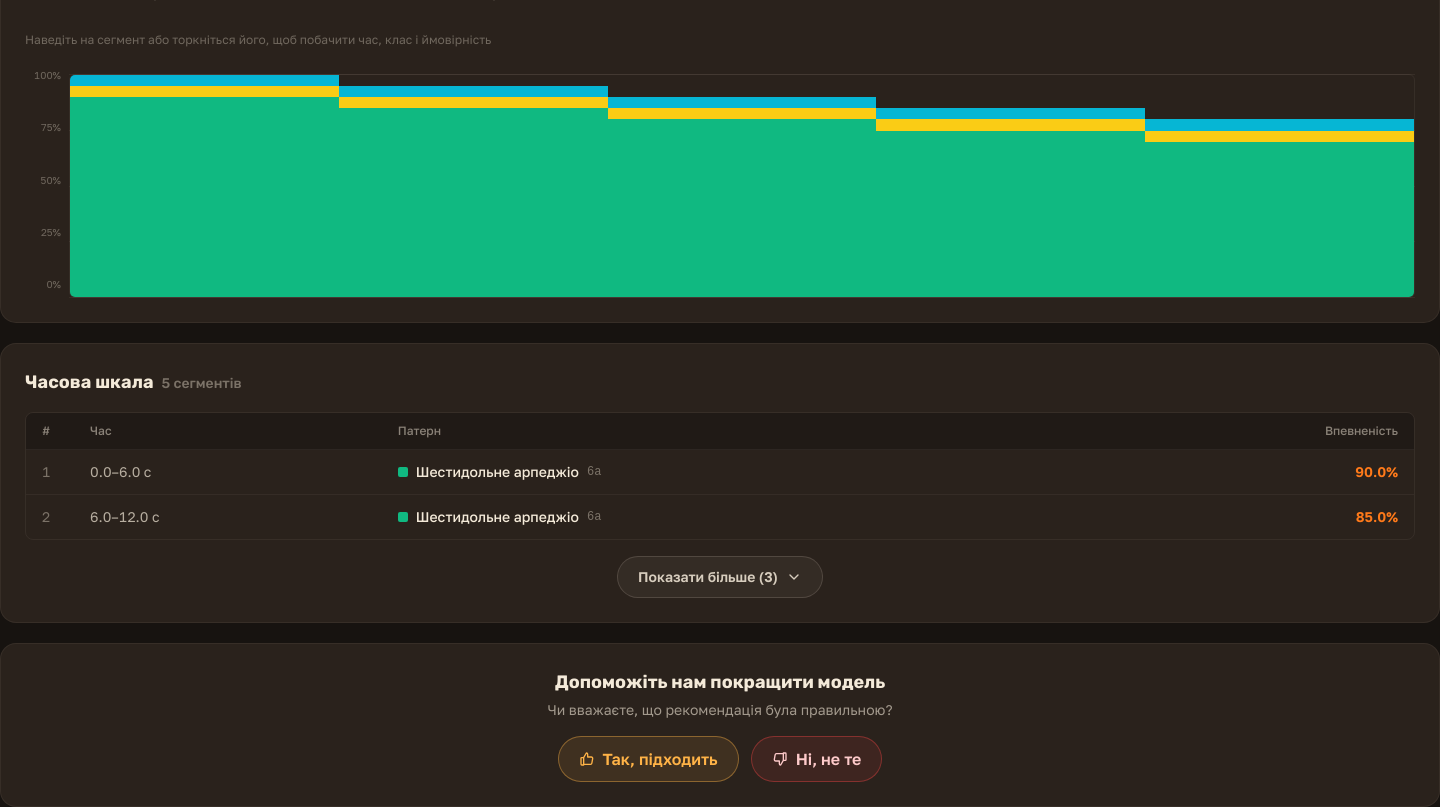
TimelineTable › expands and collapses when toggle button is clicked
(page scrolled)
Step 1. Click the button "Показати більше (3)" → {"x": 720, "y": 577}, box 617,556 -> 823,598
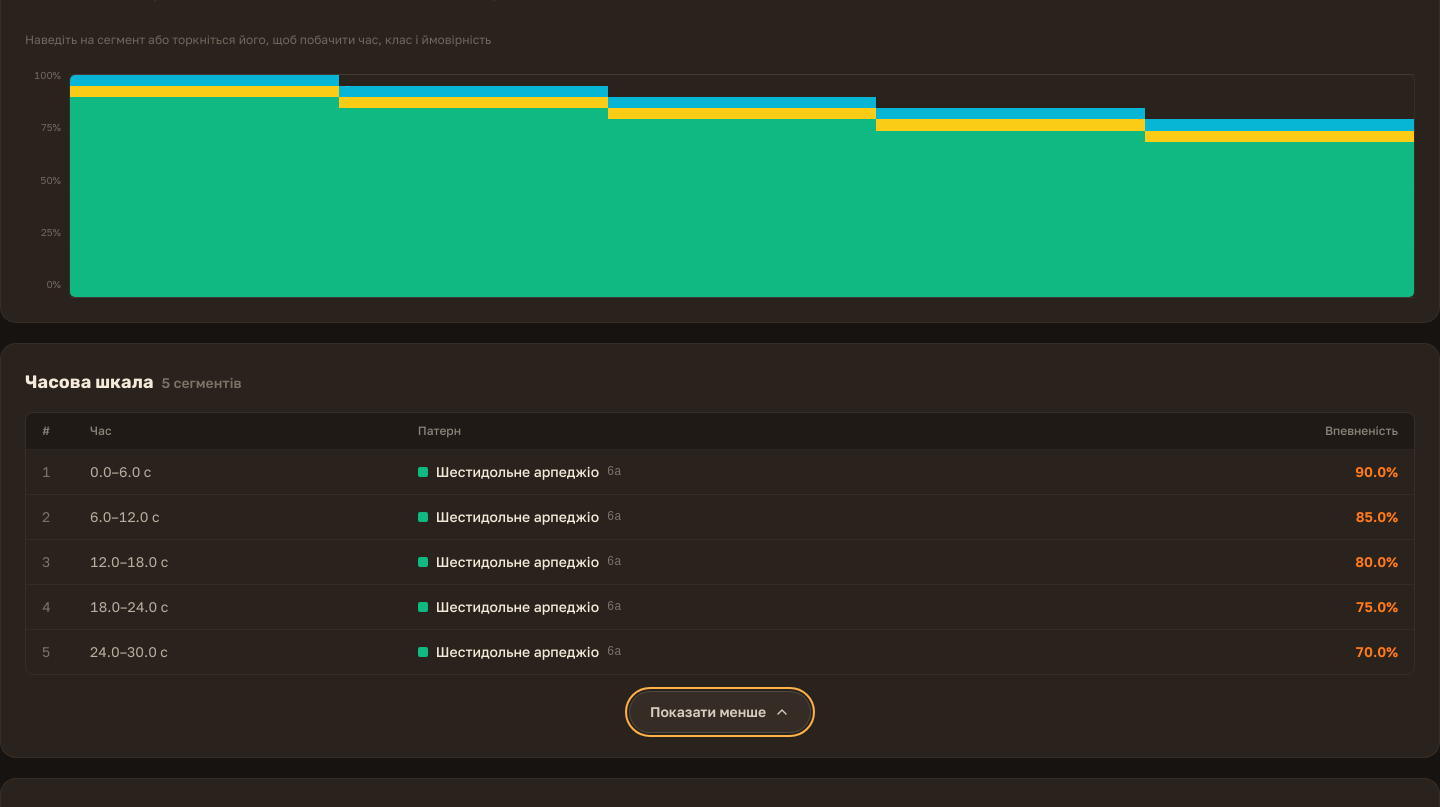
Check: the button "Показати менше" is shown
Step 2. Click the button "Показати менше" → {"x": 720, "y": 712}, box 629,691 -> 811,733
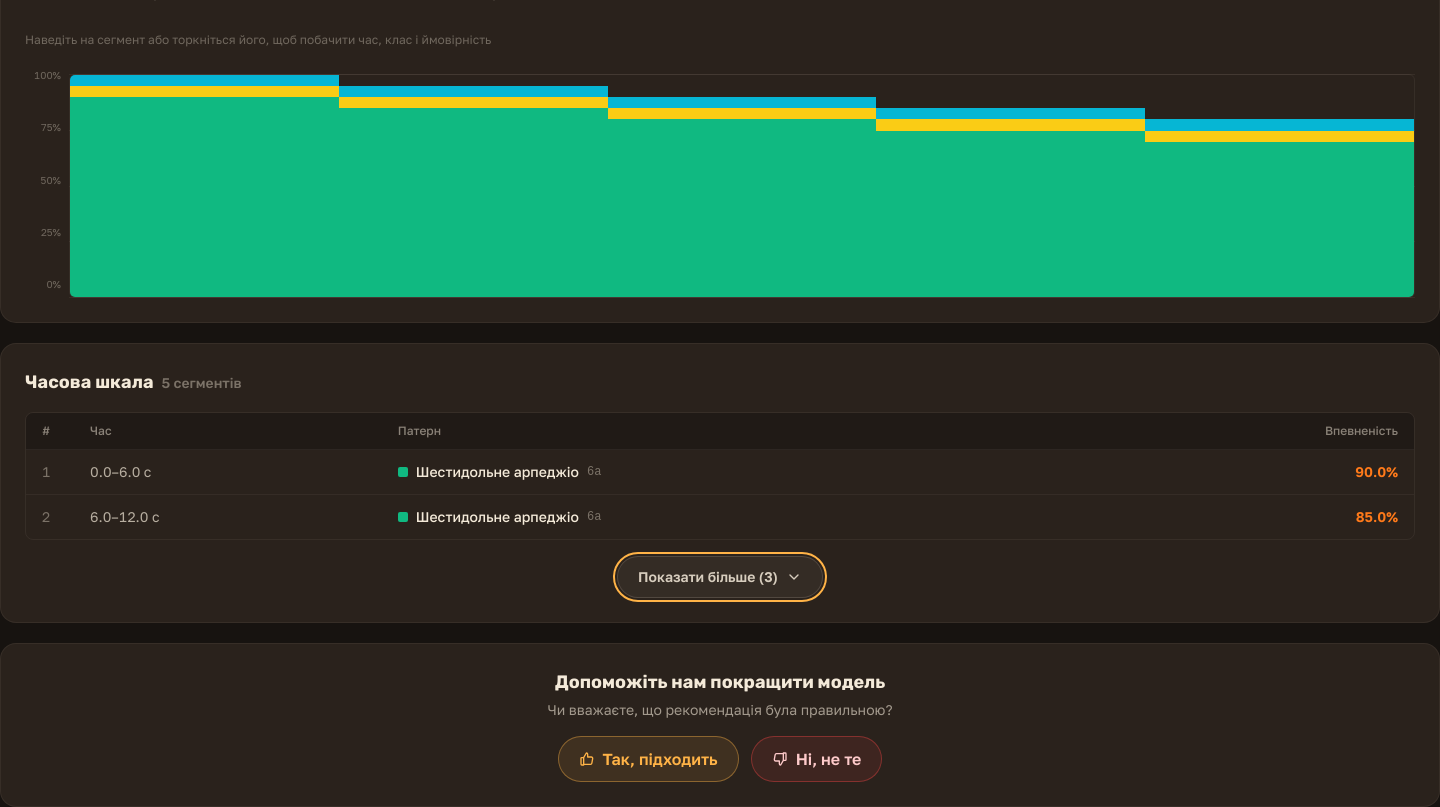
Check: the button "Показати більше (3)" is shown, box 617,556 -> 823,598
